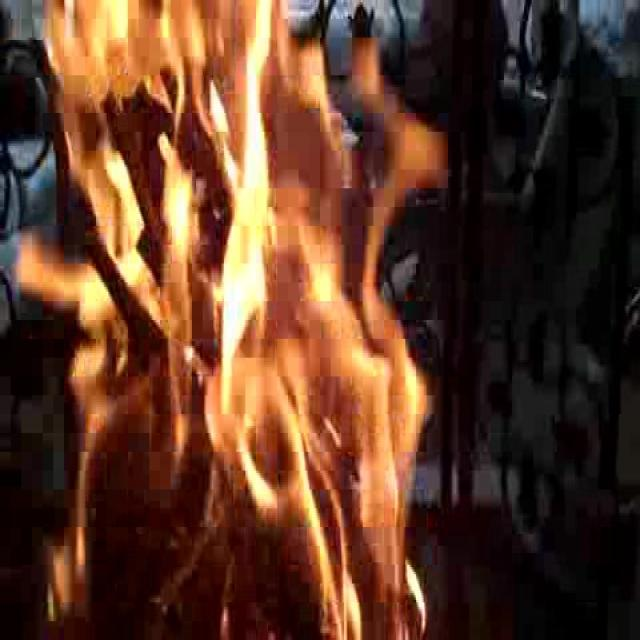fire: (44, 12, 422, 629)
